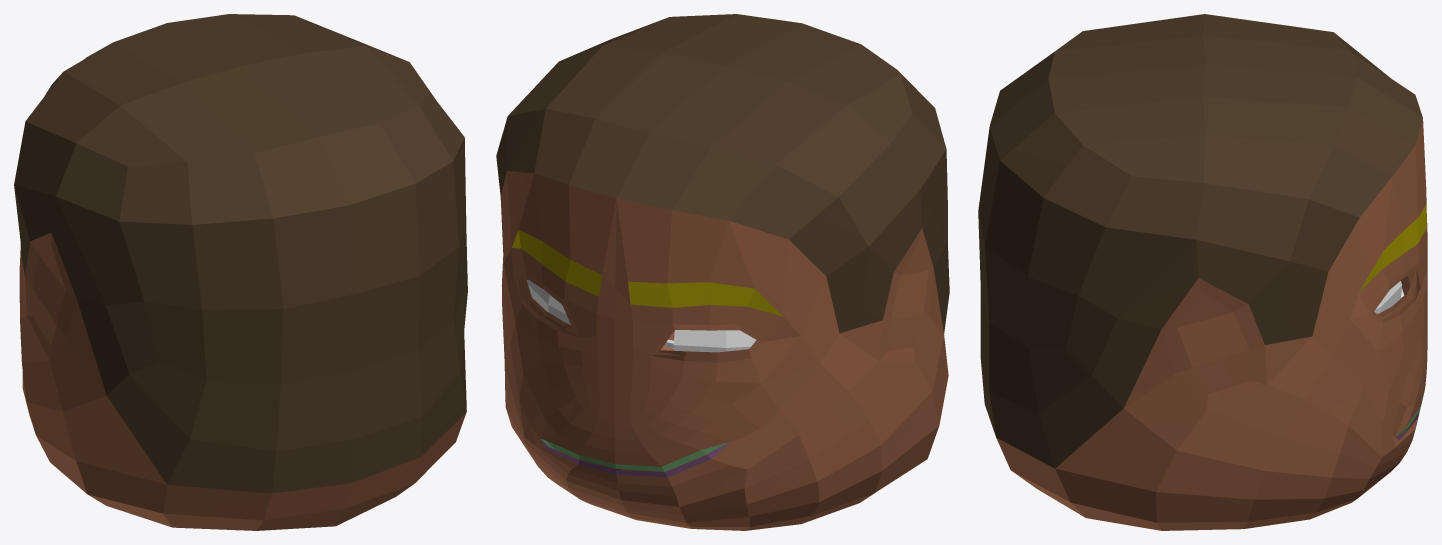
File: Helmet.fbx
3 views of the same model, side by side, from view 1: azimuth 30°, elevation 25°; view 2: azimuth 150°, elevation 25°; view 3: azimuth 270°, elevation 25° (orthographic).
Parts seen in each view (by area): view 1: Helmet_OuterCage; view 2: Helmet_OuterCage, Helmet, Helmet_InnerCage; view 3: Helmet_OuterCage, Helmet_InnerCage.
Part boxes in pixels (x1=…): Helmet_OuterCage: x1=14, y1=14, x2=467, y2=530; Helmet_OuterCage: x1=496, y1=14, x2=949, y2=530; Helmet: x1=527, y1=280, x2=756, y2=352; Helmet_InnerCage: x1=517, y1=278, x2=759, y2=472; Helmet_OuterCage: x1=978, y1=14, x2=1427, y2=530; Helmet_InnerCage: x1=1378, y1=270, x2=1416, y2=318.
Bounding box in the file's own units: 1.29 × 1.24 × 1.28.
